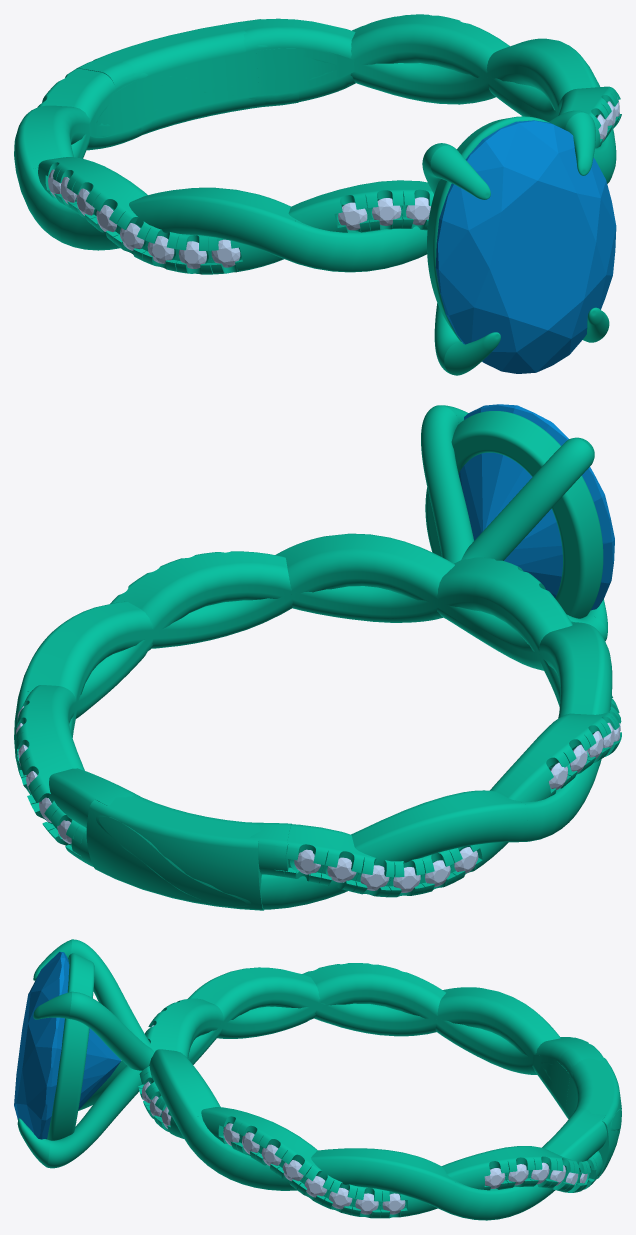
The picture shows the model from 3 angles, top to bottom: view 1: azimuth 30°, elevation 25°; view 2: azimuth 150°, elevation 25°; view 3: azimuth 270°, elevation 25°; orthographic projection. The views are drawn at different scales.
Parts seen in each view (by area): view 1: RING.JTC.SRO10(base).3dm, Diamond_Oval, Diamond_Round (×6); view 2: RING.JTC.SRO10(base).3dm, Diamond_Oval; view 3: RING.JTC.SRO10(base).3dm, Diamond_Oval.
Boxes of the visible parts, x1,y1,x2,y2 form: RING.JTC.SRO10(base).3dm: (14,14,621,375); Diamond_Oval: (435,120,616,373); Diamond_Round (×6): (147,197,430,268); RING.JTC.SRO10(base).3dm: (14,405,621,910); Diamond_Oval: (458,404,614,610); RING.JTC.SRO10(base).3dm: (17,939,621,1220); Diamond_Oval: (14,951,121,1139).
Size of what is drawn, in the model's own units: 2.39 by 1.05 by 3.03.
